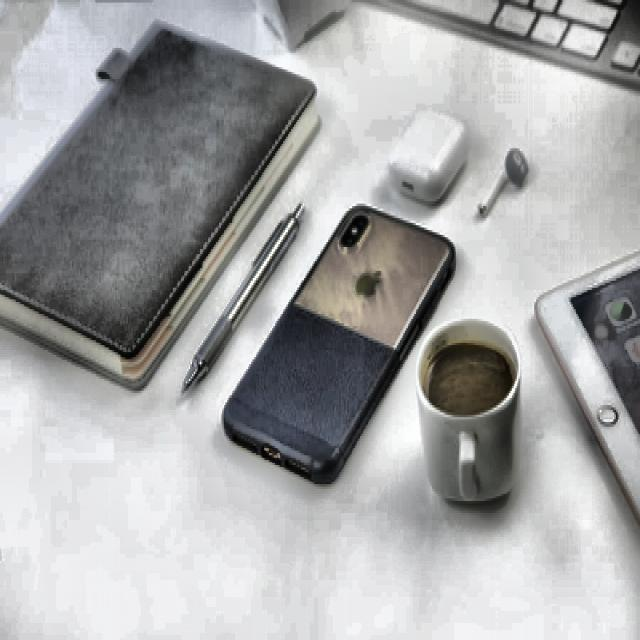Phone: (214, 200, 462, 490)
